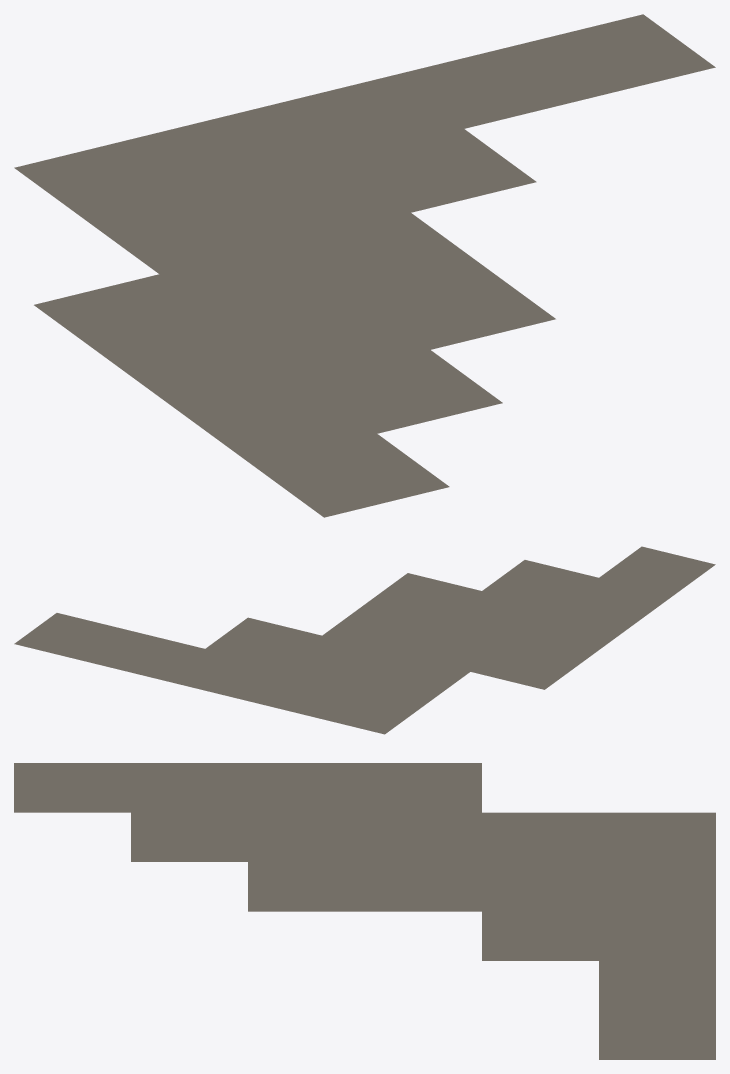
Rendered from Isl-crescent2-RocksArea.fbx.
The picture shows the model from 3 angles, top to bottom: view 1: azimuth 30°, elevation 25°; view 2: azimuth 150°, elevation 25°; view 3: azimuth 270°, elevation 25°; orthographic projection. The views are drawn at different scales.
Visible parts, largest first — view 1: Isl-crescent2-RocksArea; view 2: Isl-crescent2-RocksArea; view 3: Isl-crescent2-RocksArea.
Boxes of the visible parts, x1,y1,x2,y2 form: Isl-crescent2-RocksArea: (14, 14, 715, 517); Isl-crescent2-RocksArea: (14, 546, 715, 734); Isl-crescent2-RocksArea: (14, 763, 715, 1059).
Bounding box in the file's own units: 6 × 0 × 6.
